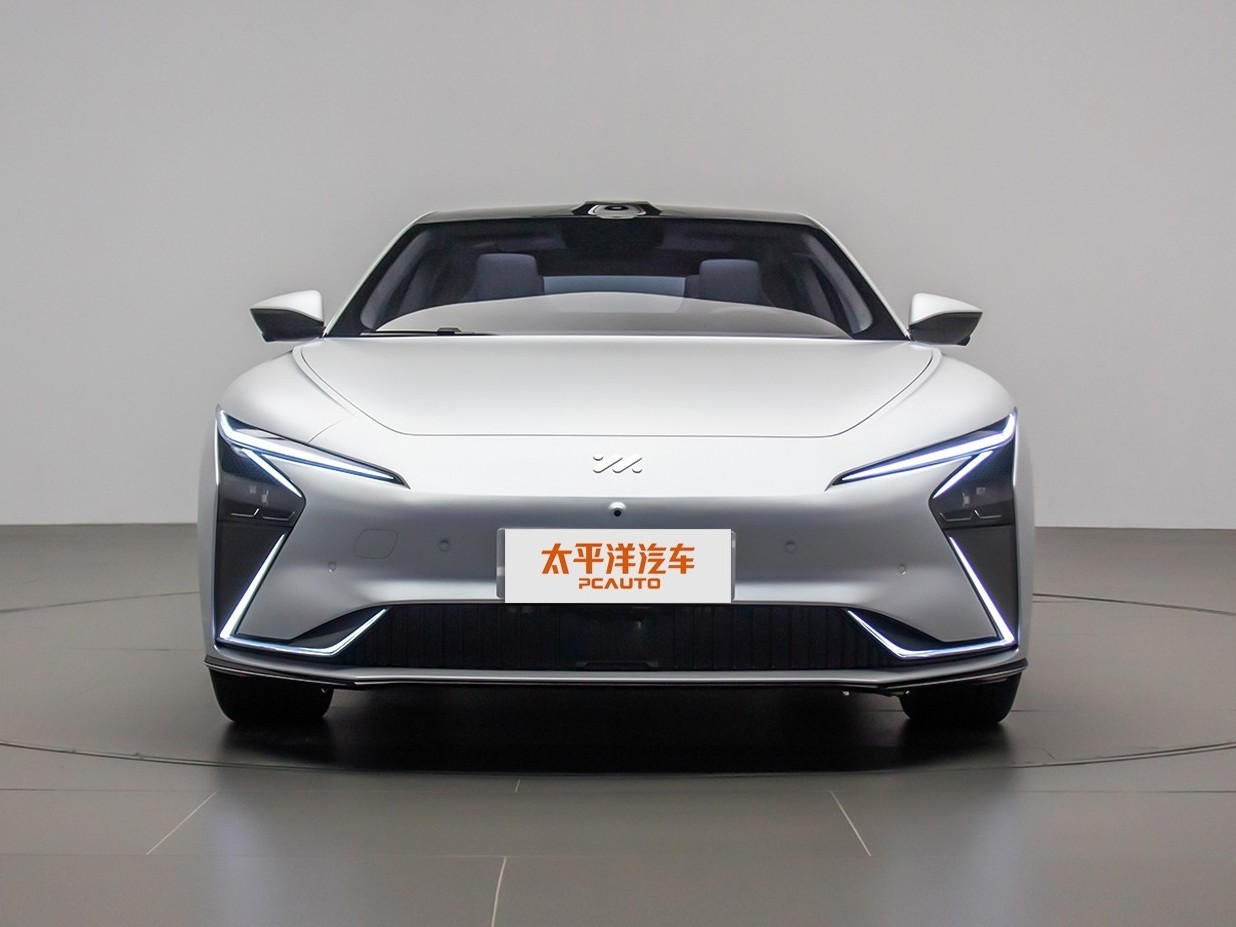IM: (594, 454, 642, 473)
